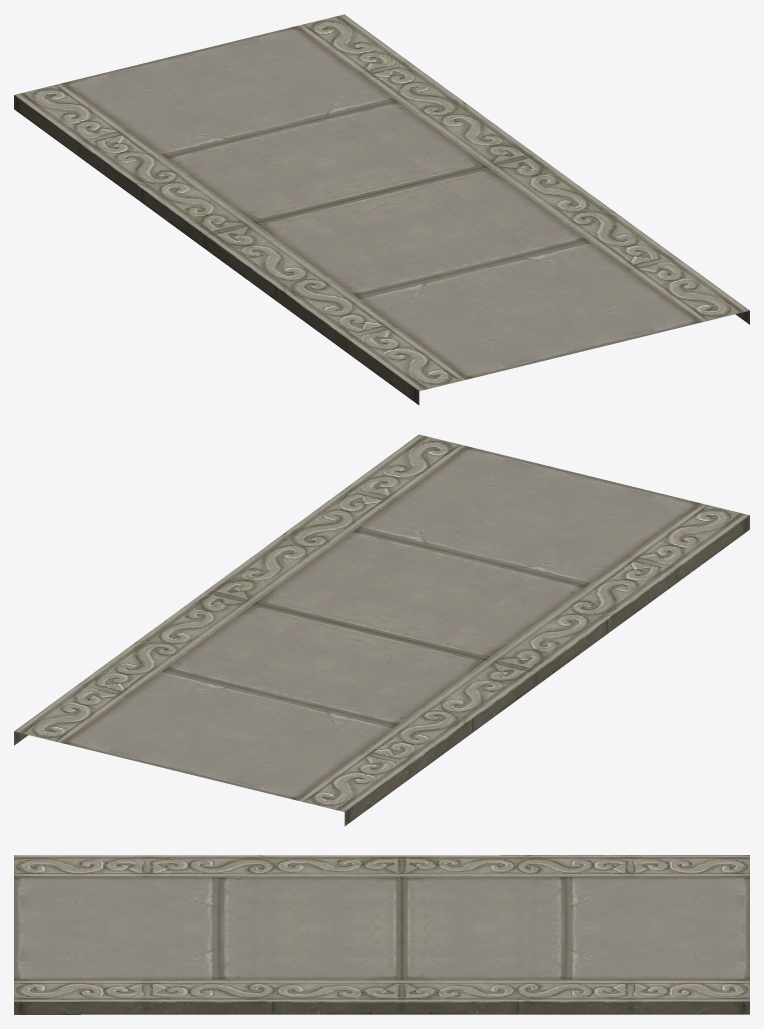
File: WSD_Item_08.FBX
3 renders of one model, top to bottom at view 1: azimuth 30°, elevation 25°; view 2: azimuth 150°, elevation 25°; view 3: azimuth 270°, elevation 25°, orthographic. The views are drawn at different scales.
Parts seen in each view (by area): view 1: WSD_Item_08; view 2: WSD_Item_08; view 3: WSD_Item_08.
Boxes of the visible parts, x1,y1,x2,y2 form: WSD_Item_08: (14,14,749,405); WSD_Item_08: (14,434,749,826); WSD_Item_08: (14,855,749,1014).
Bounding box in the file's own units: 5.66 × 0.2354 × 11.99.
